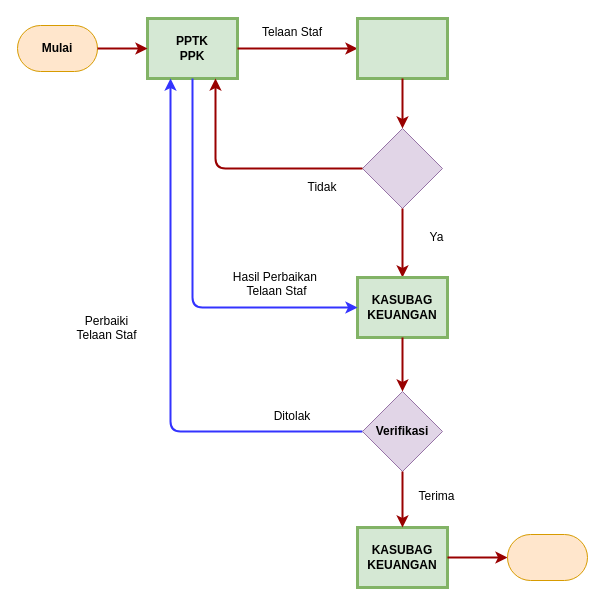
Image size: 605x606. Some labels were removed from this diagram. The centre of each missing label's shape, as x and y in pixels:
"KABAN" belongs at [402,48].
"Selesai" belongs at [547,557].
"Setuju?" belongs at [402,168].
